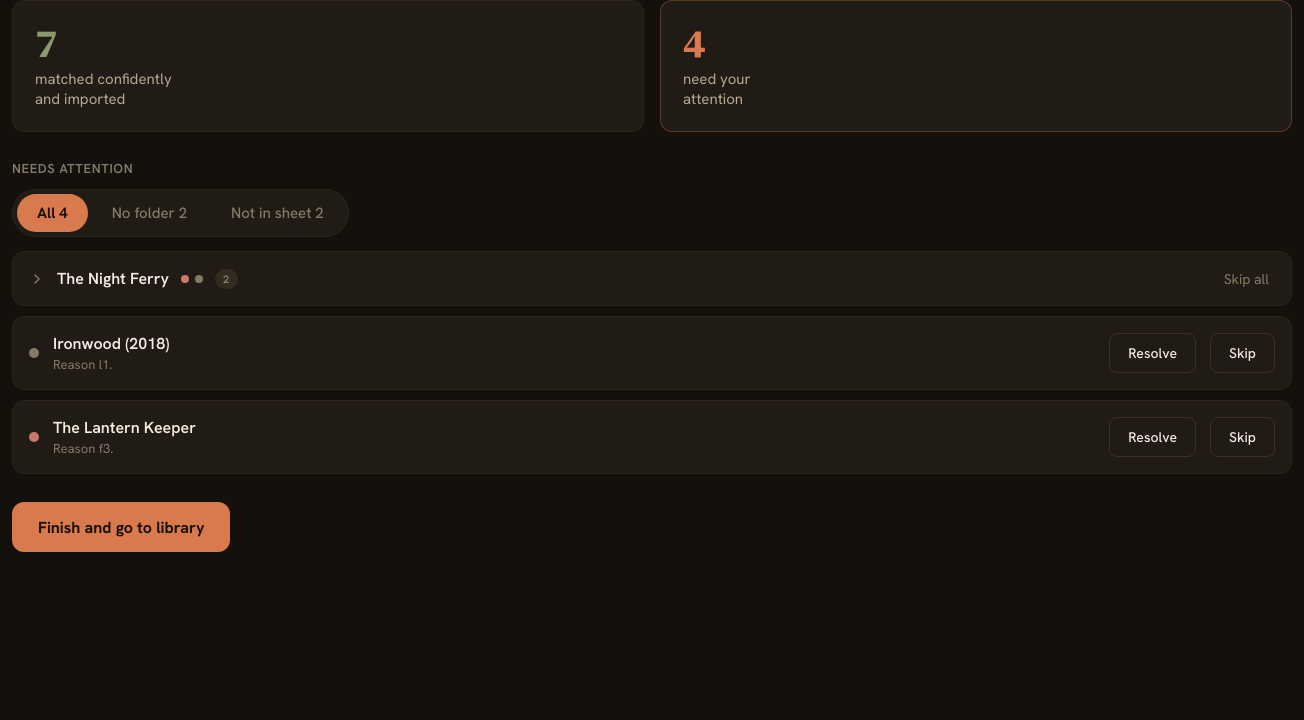
it: ImportReview — Import all as guessed › draws Import all as guessed with no-row chosen, before Skip all
This screenshot has width=1304, height=720.
Click the button "Not in sheet 2". click: (277, 213)
box: [211,194,344,232]
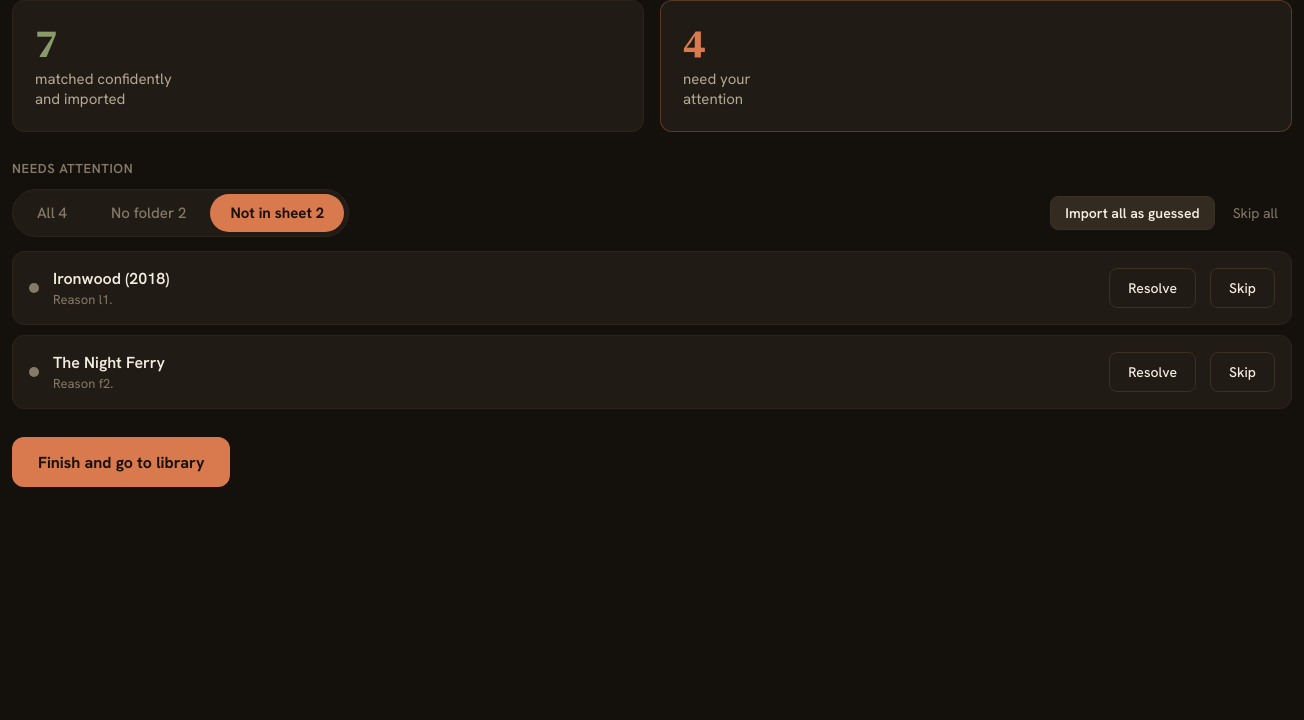
Check: the button "Import all as guessed" is shown, box [1050,196,1215,230]
